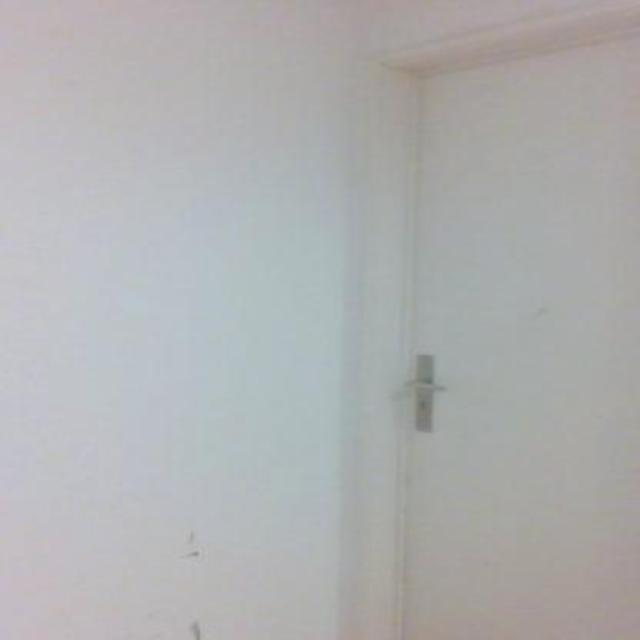door: (354, 0, 640, 640)
